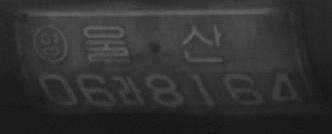0: (38, 71, 78, 107)
1: (184, 72, 216, 108)
4: (269, 71, 306, 106)
6: (221, 71, 266, 107), (78, 72, 116, 107)
8: (146, 72, 184, 109)
라: (116, 74, 145, 109)
영: (32, 24, 69, 62)
울산_D: (82, 22, 225, 65)
